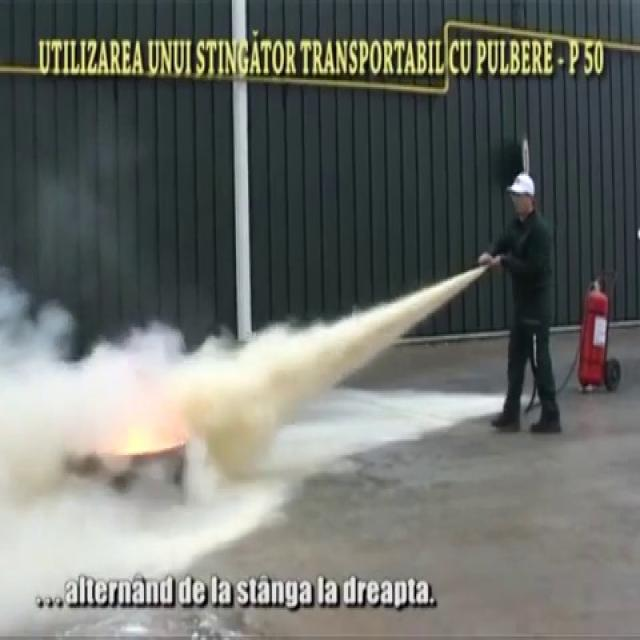Fire: (121, 400, 175, 458)
Smoke: (4, 240, 252, 522)
